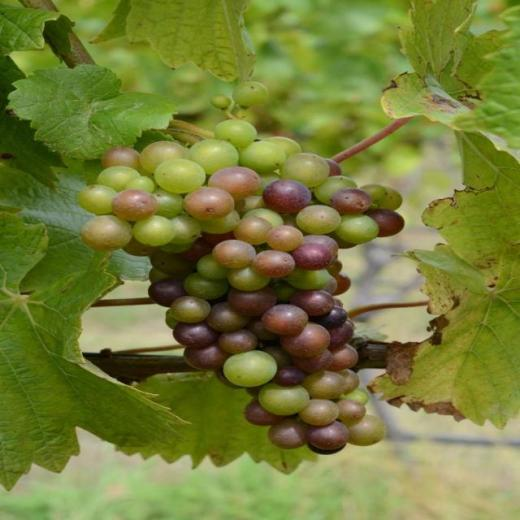Orange: (76, 81, 405, 455)
